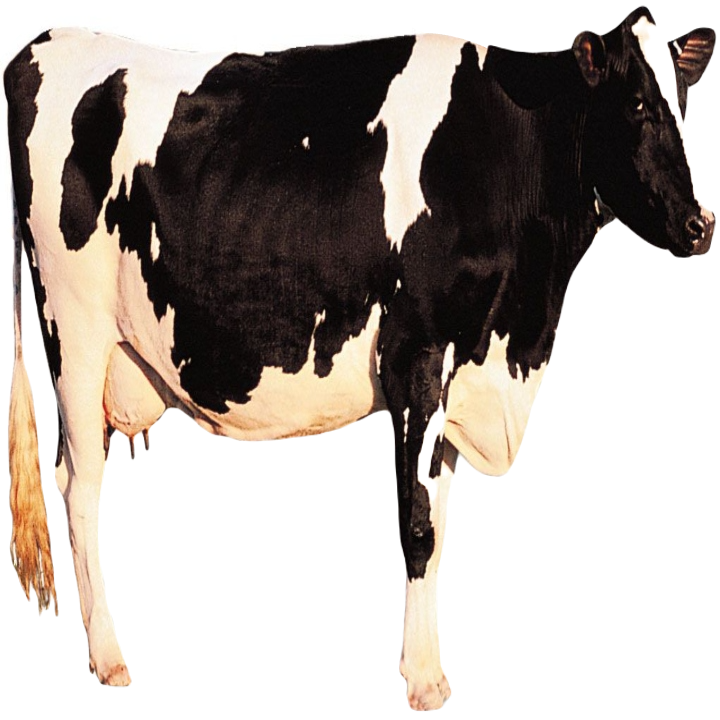Cow: (0, 4, 719, 709)
